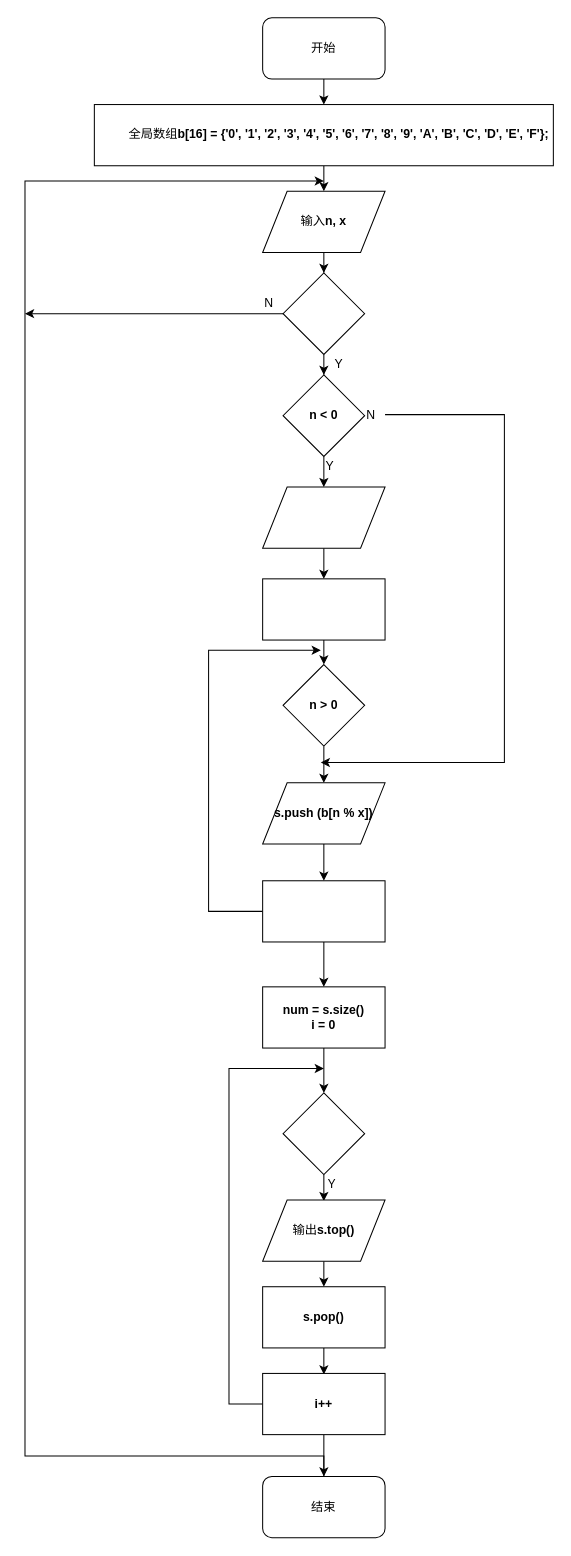
This 571x1556 diagram has some shape labels left out. Each missing label, with the centre of its shape:
i < num: point (323, 1133)
n /= x: point (323, 911)
n = -n: point (323, 609)
x > 0: point (323, 313)
输出 "-": point (323, 517)
